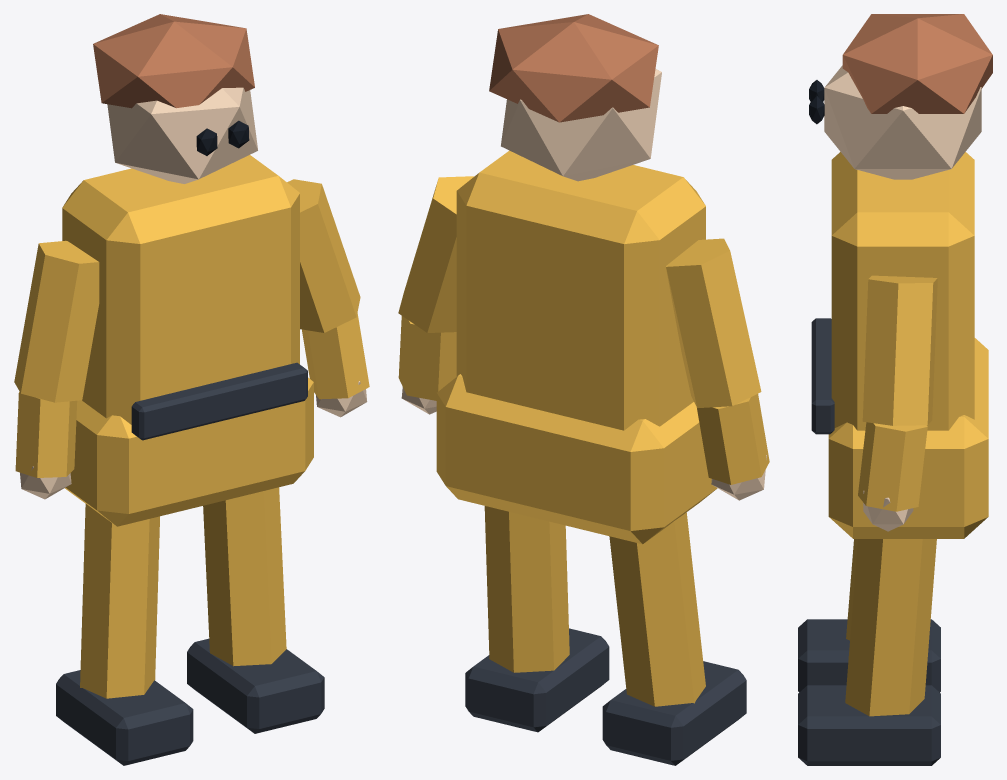
Rendered from npcs_002_seed78877.glb.
3 renders of one model, left to right at view 1: azimuth 30°, elevation 25°; view 2: azimuth 150°, elevation 25°; view 3: azimuth 270°, elevation 25°, orthographic. The views are drawn at different scales.
Visible parts, largest first — view 1: npcs_002_seed78877; view 2: npcs_002_seed78877; view 3: npcs_002_seed78877.
Boxes of the visible parts, bbox=[...] form: npcs_002_seed78877: bbox=[14, 14, 369, 765]; npcs_002_seed78877: bbox=[398, 14, 769, 765]; npcs_002_seed78877: bbox=[798, 14, 992, 765].
Size of the model in its own units: 1.11 by 2.08 by 0.5231.
